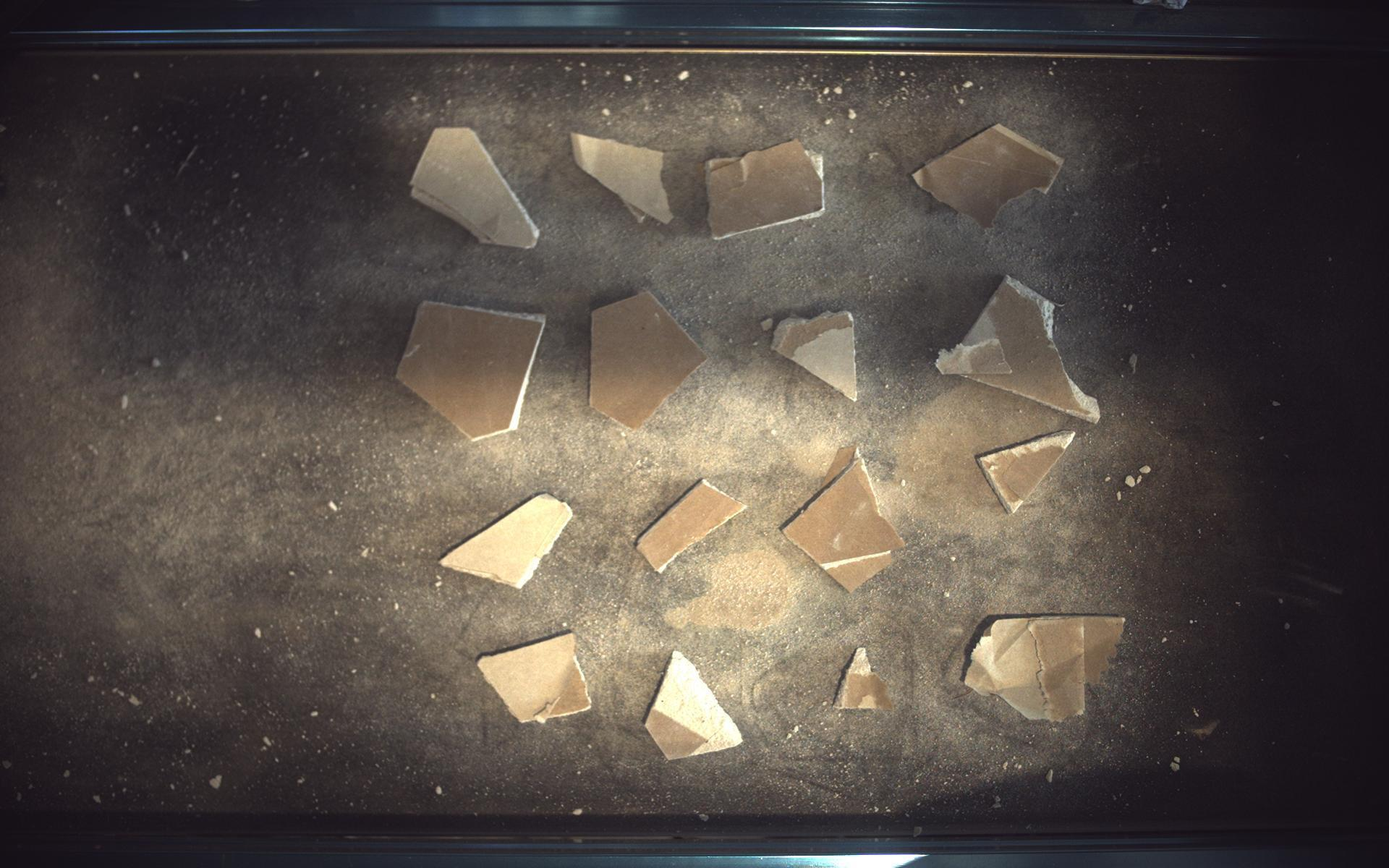gypsum_board: (938, 276, 1103, 423), (396, 300, 546, 441), (785, 446, 906, 593), (966, 617, 1127, 723), (590, 290, 708, 430), (914, 123, 1066, 227), (410, 126, 540, 247), (440, 494, 573, 589), (705, 139, 826, 239), (645, 652, 744, 762), (477, 634, 591, 724), (639, 480, 746, 573), (572, 133, 674, 223), (979, 431, 1077, 514), (774, 310, 857, 401), (836, 649, 895, 711)
